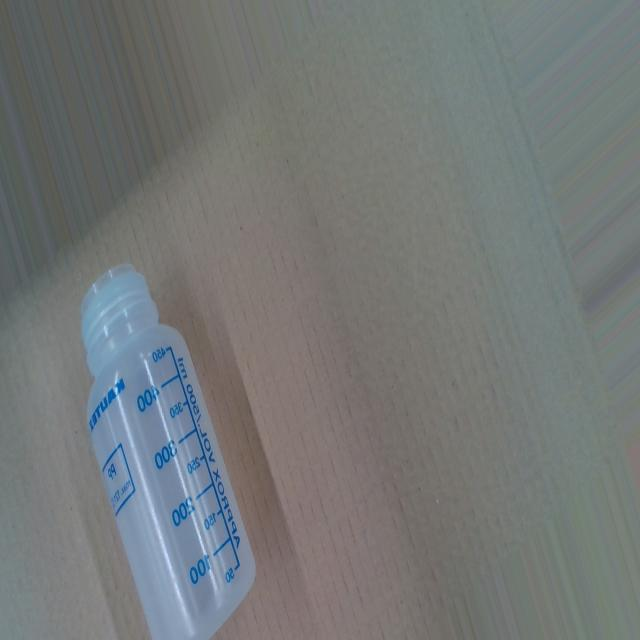bottle: (80, 259, 258, 640)
